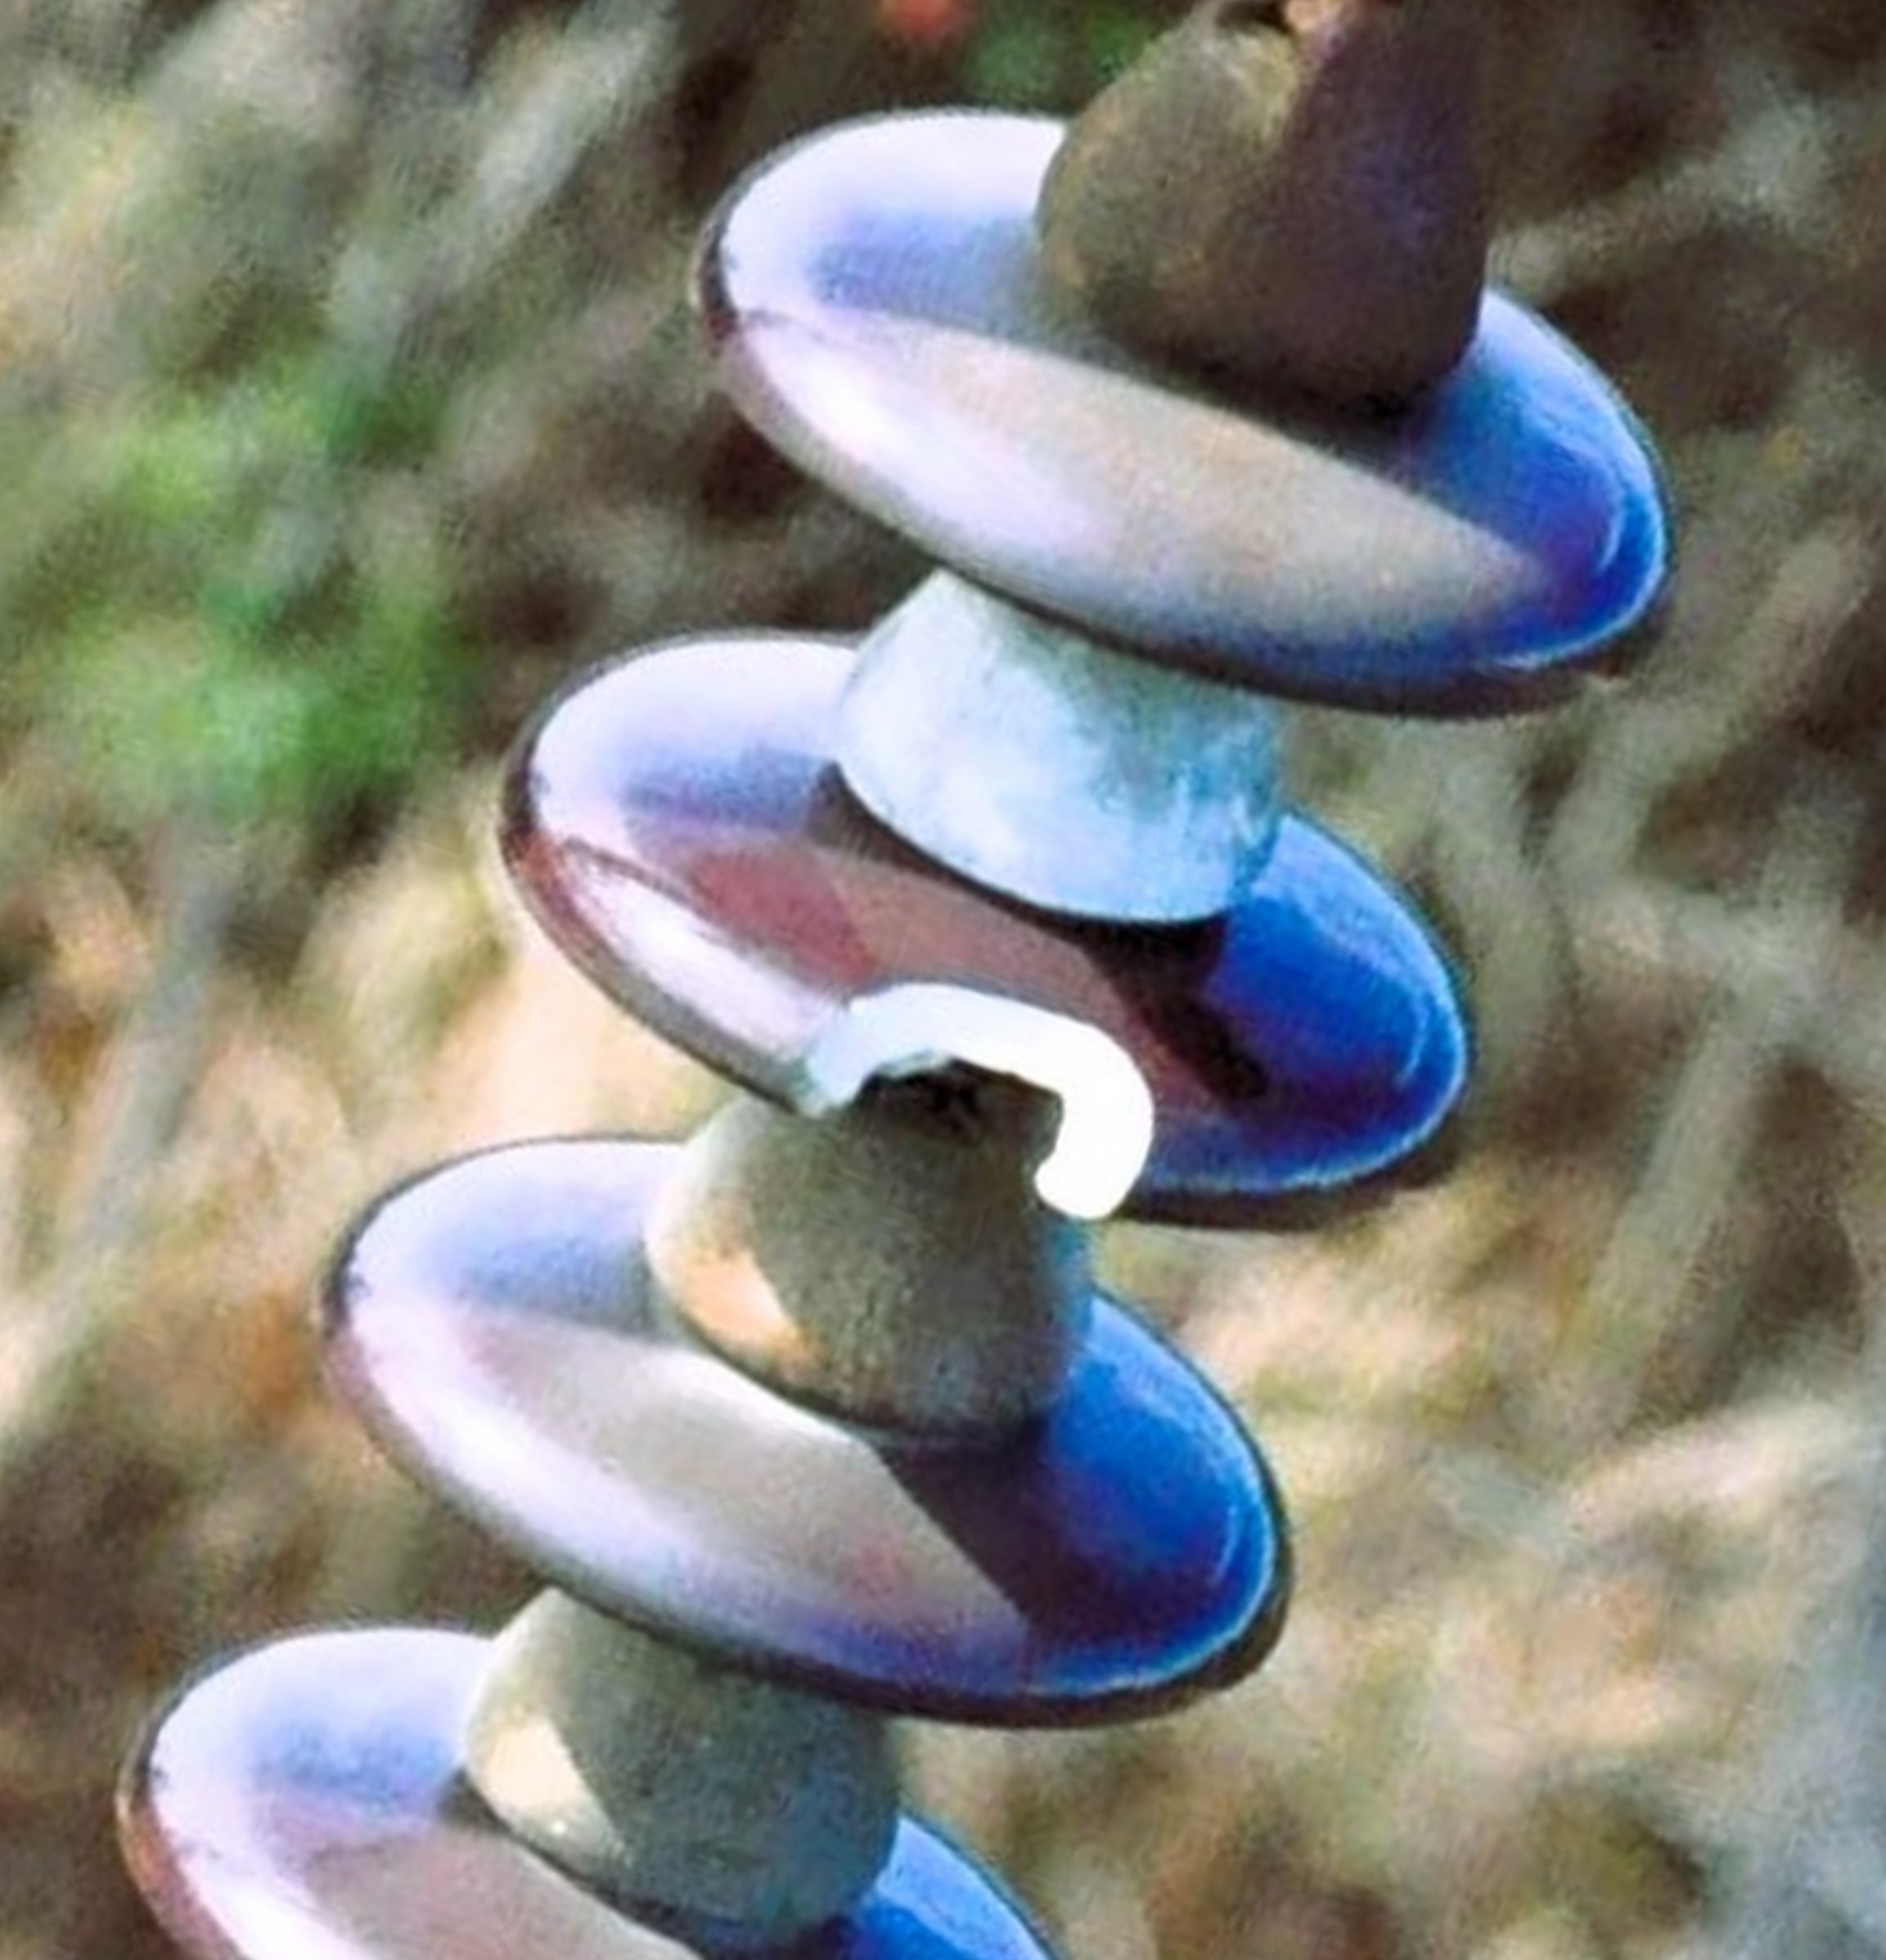insulator breakage: (444, 616, 1489, 1237)
